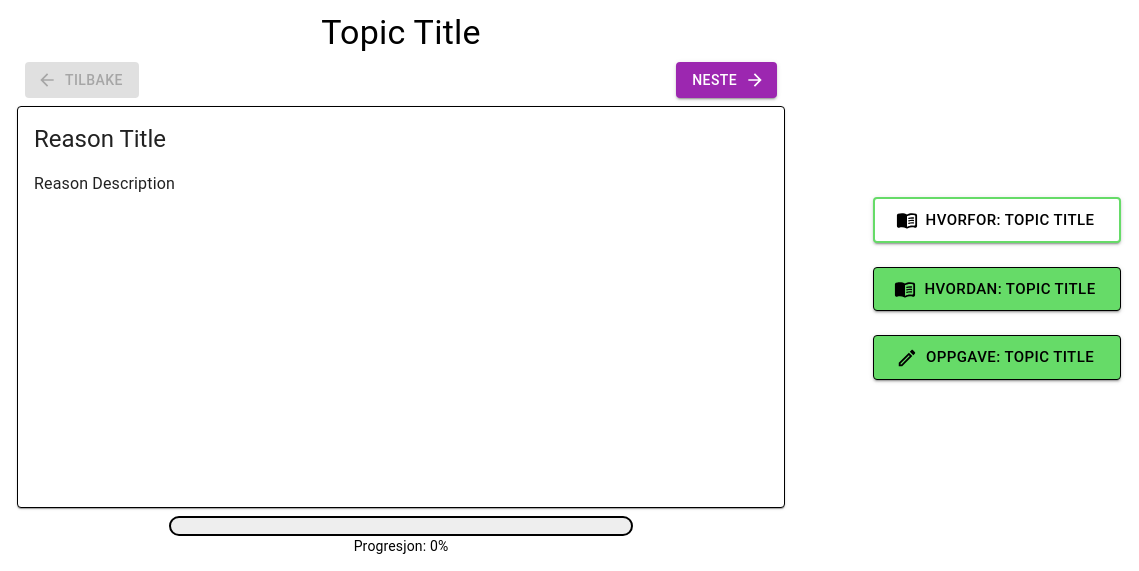
Test case: TopicPage component testing › should render subtopic title and content when clicking next
Click the button "Neste".
click(727, 80)  # box x1=676 y1=62 x2=777 y2=98
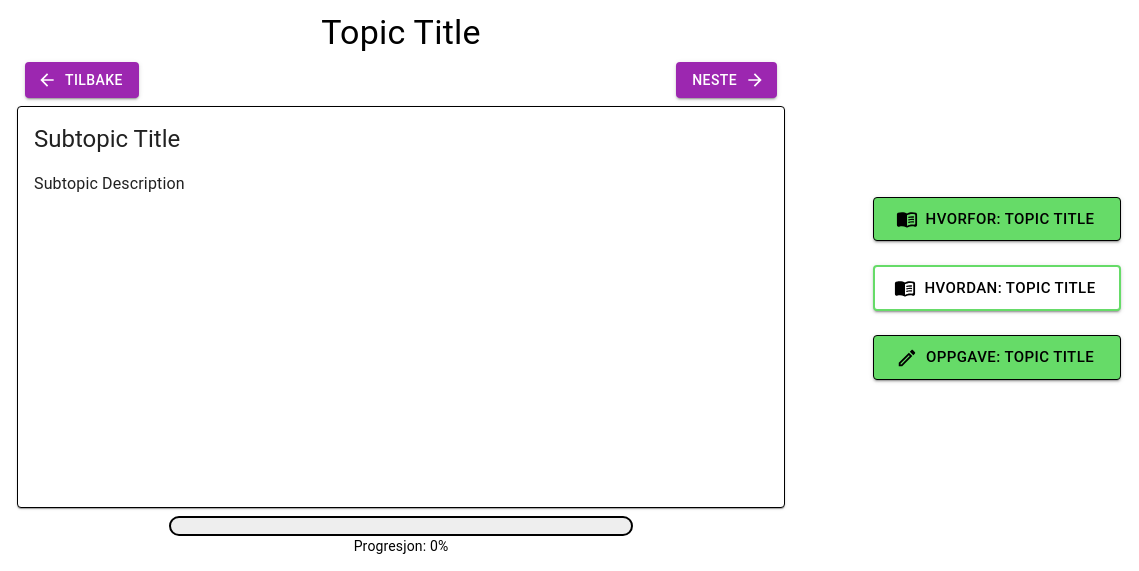
Now the heading "Subtopic Title" is shown, box x1=34 y1=126 x2=180 y2=154
Now the text "Subtopic Description" is shown, box x1=34 y1=174 x2=185 y2=192
